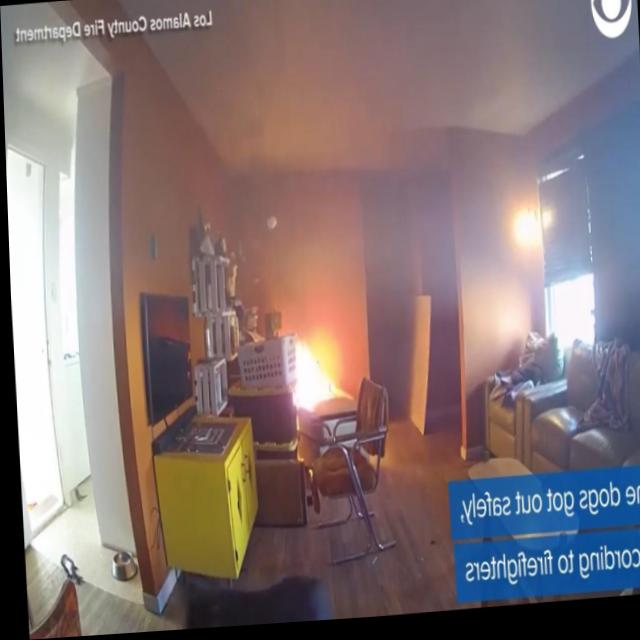fire: (285, 331, 336, 416)
